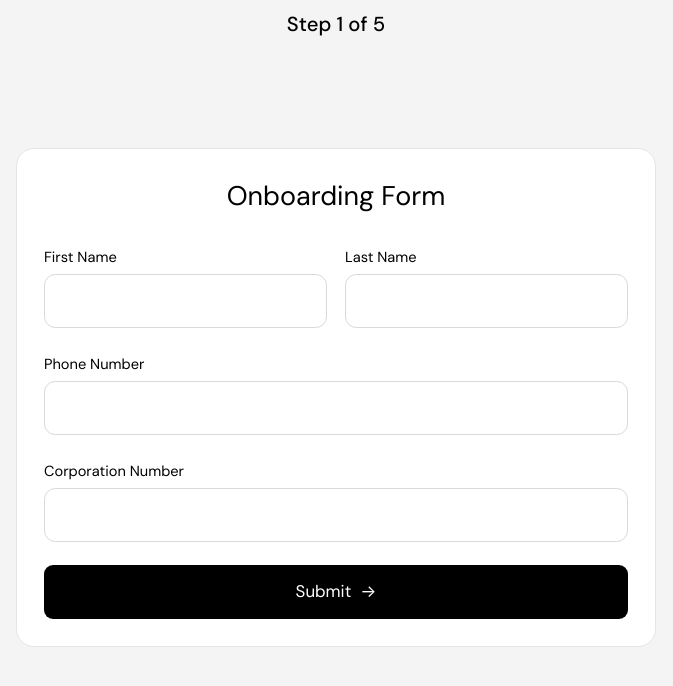
Test: OnboardingPage › shows field errors on blur for invalid input
This screenshot has width=673, height=686.
Type "Hello" into the field labelled "First Name" at (186, 301), box [44,274,327,328]
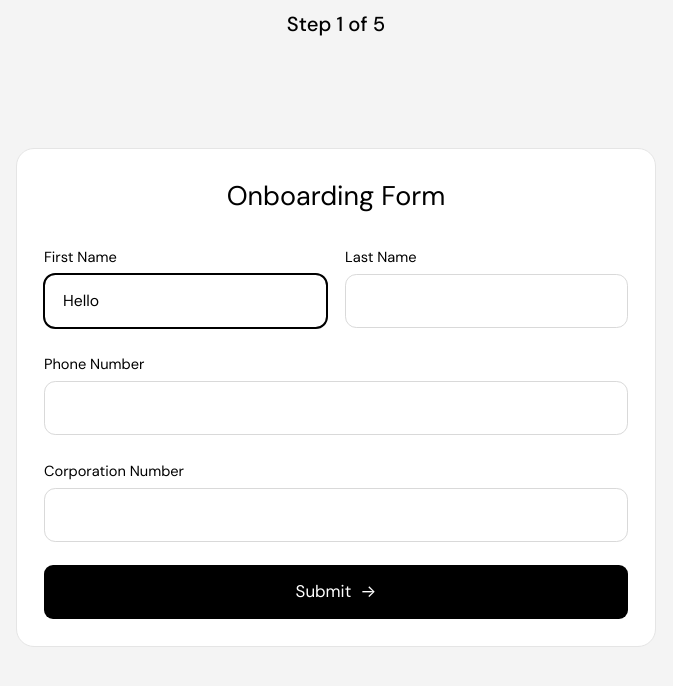
Type "World" into the field labelled "Last Name" at (486, 301), box [345,274,628,328]
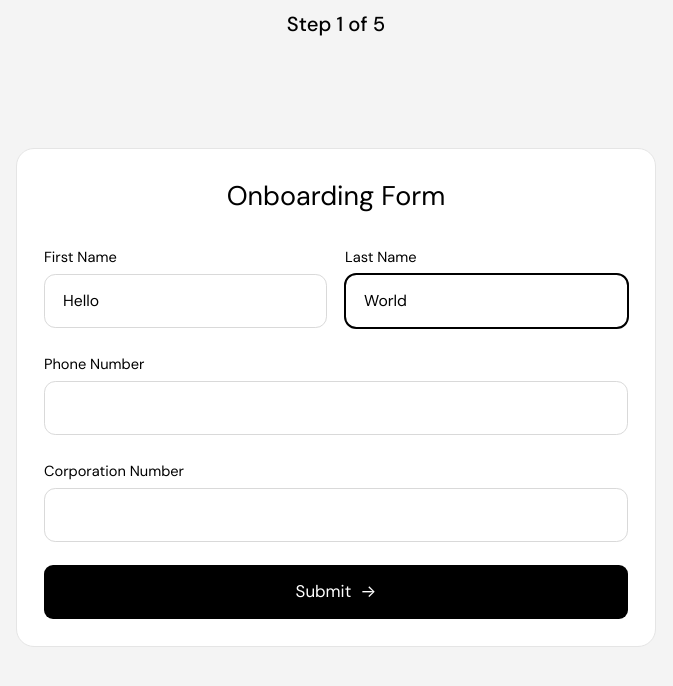
Type "123" into the field labelled "Phone Number" at (336, 408), box [44,381,628,435]
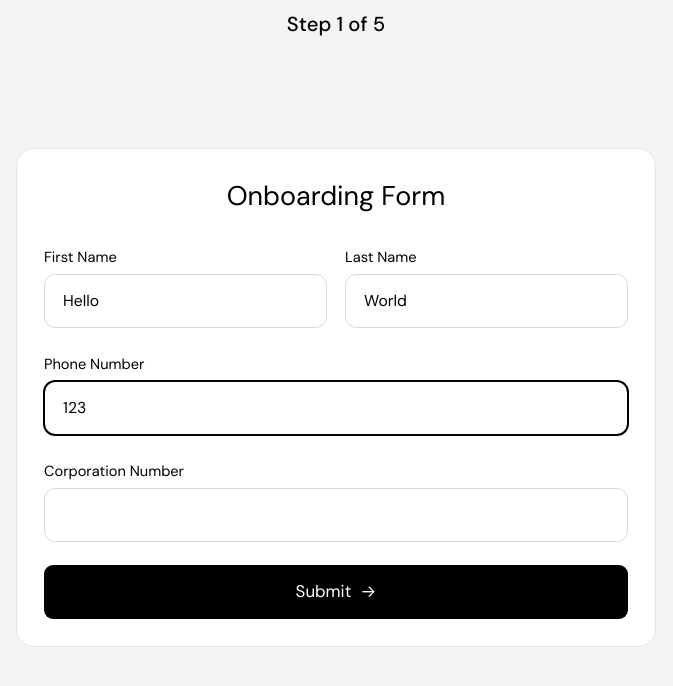
Type "123" into the field labelled "Corporation Number" at (336, 515), box [44,488,628,542]
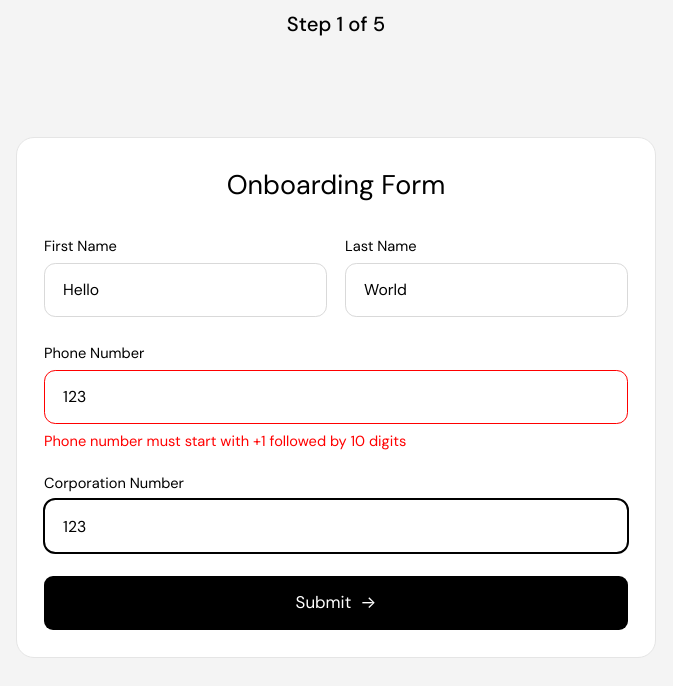
Press Tab
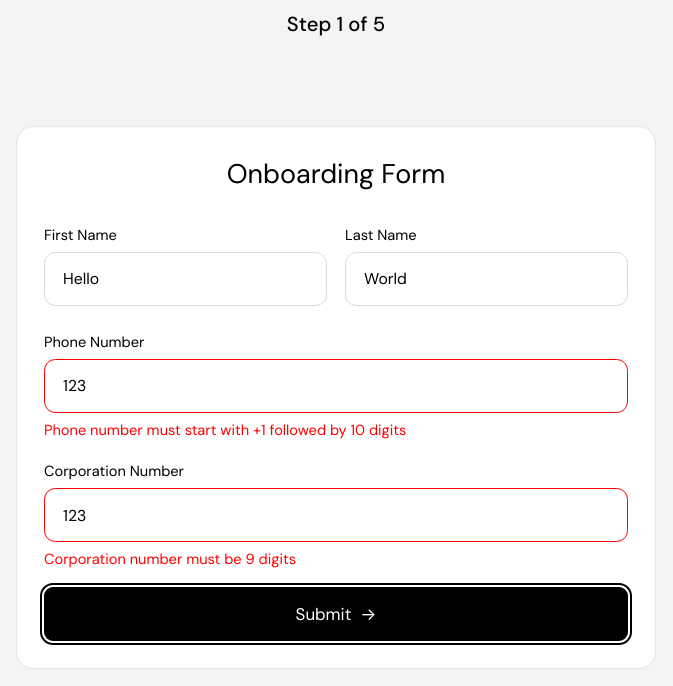
Result: the text "Phone number must start with +1 followed by 10 digits" is shown at [44,420,406,440]
Result: the text "Corporation number must be 9 digits" is shown at [44,549,296,569]
